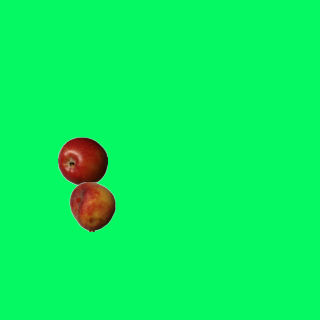Apple Braeburn: (57, 136, 107, 186)
Peach: (67, 181, 117, 231)
